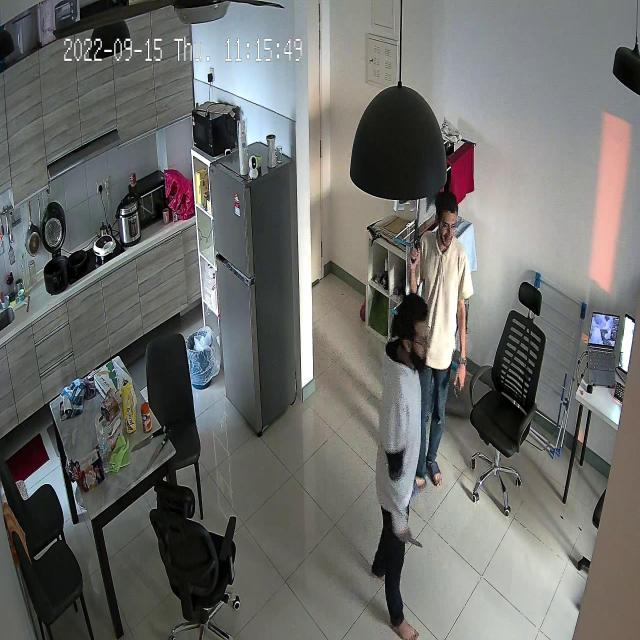Gun: (401, 203, 431, 275)
Knife: (387, 519, 428, 561)
